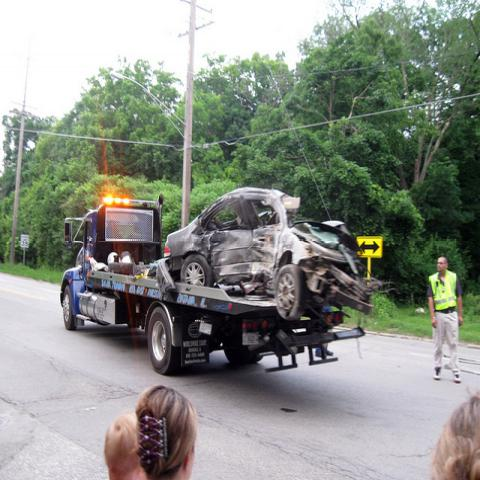car: (168, 190, 376, 322)
truck: (61, 194, 364, 377)
